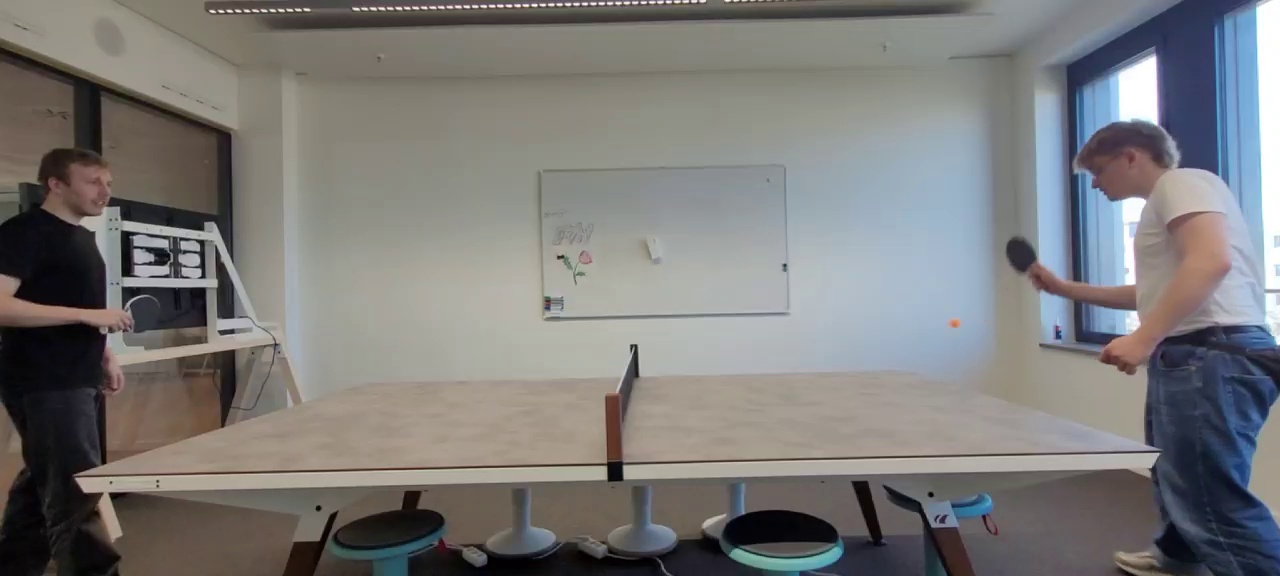plate: (77, 369, 1160, 476)
racket: (123, 295, 160, 333), (1006, 237, 1037, 274)
ttball: (950, 319, 959, 328)
